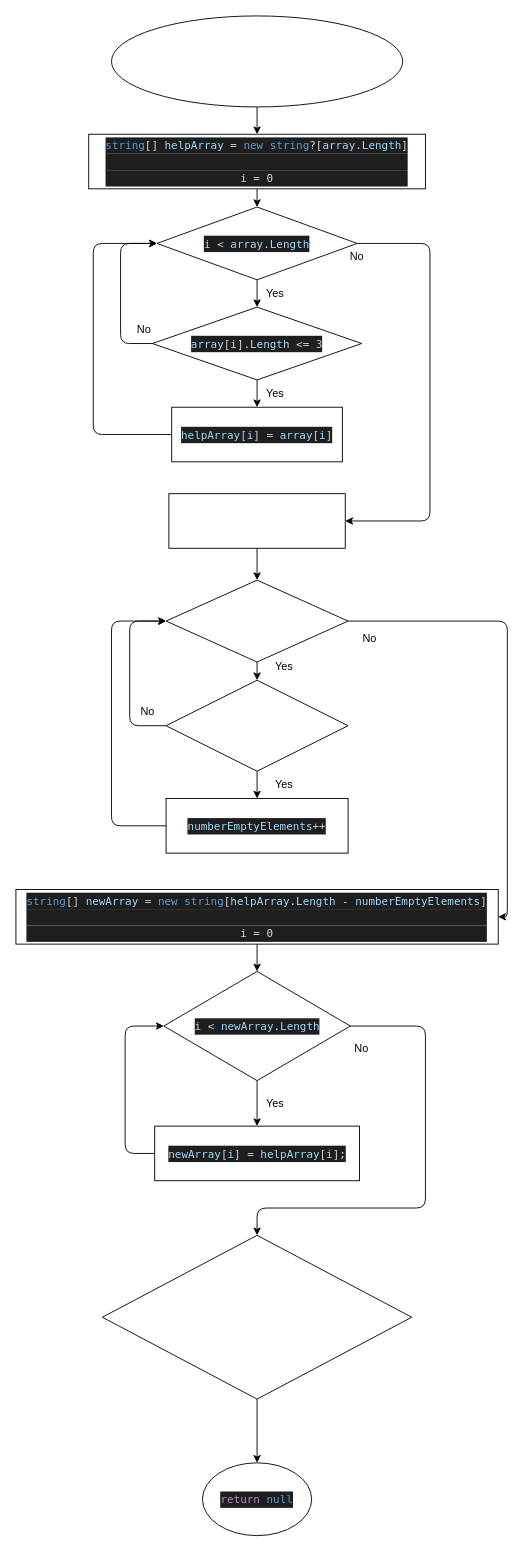
This 531x1552 diagram has some shape labels left out. The shapes that lost their labels are listed below. From the top down, each one's box as (x1, y1, x2, y2) in pixels, then its label:
(111, 15, 403, 107): string []? ArrayFilter ( string [] array )
(168, 493, 345, 548): numberEmptyElements = 0 i = 0
(165, 579, 348, 662): i < helpArray . Length
(165, 679, 348, 771): helpArray [ i ] == null
(101, 1234, 412, 1399): numberEmptyElements == helpArray . Length
